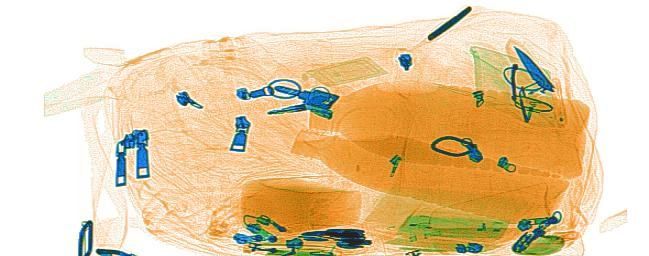knife: (503, 35, 555, 96)
